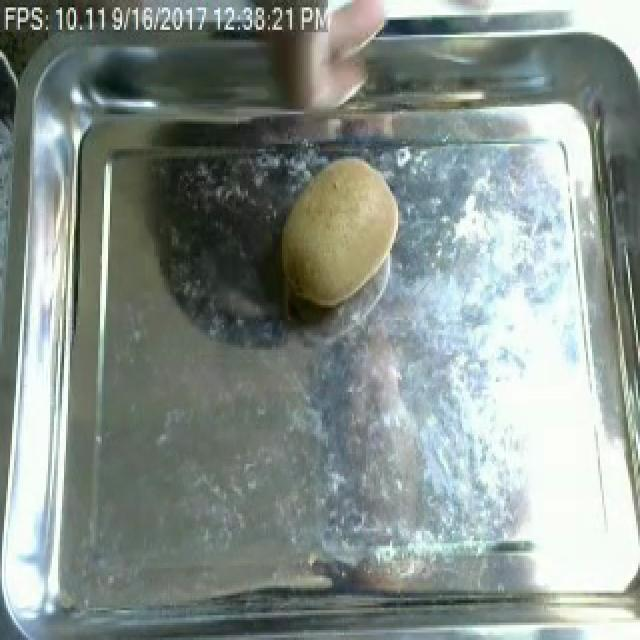Fruit: (272, 146, 408, 315)
